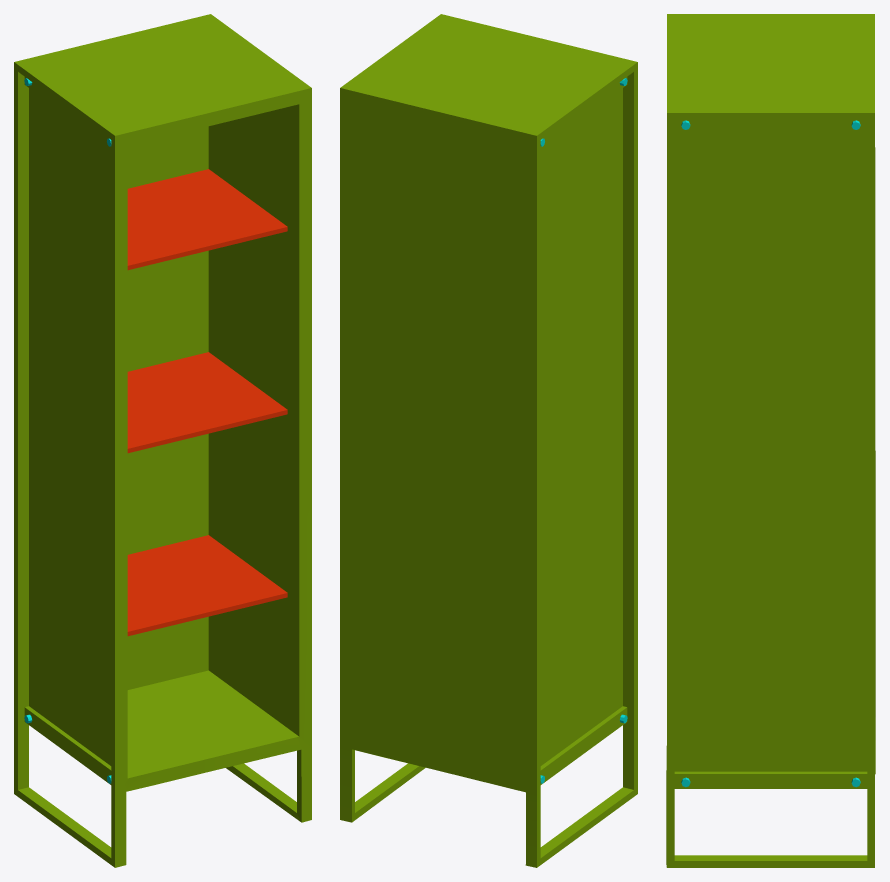
The model's file is Casier_v1.1.fbx.
3 renders of one model, left to right at view 1: azimuth 30°, elevation 25°; view 2: azimuth 150°, elevation 25°; view 3: azimuth 270°, elevation 25°, orthographic. The views are drawn at different scales.
Visible parts, largest first — view 1: pCube14; view 2: pCube14; view 3: pCube14.
Boxes of the visible parts, x1,y1,x2,y2 form: pCube14: (14,14,311,867); pCube14: (340,14,637,867); pCube14: (666,14,875,867).
Bounding box in the file's own units: 45 × 160 × 40.25.
